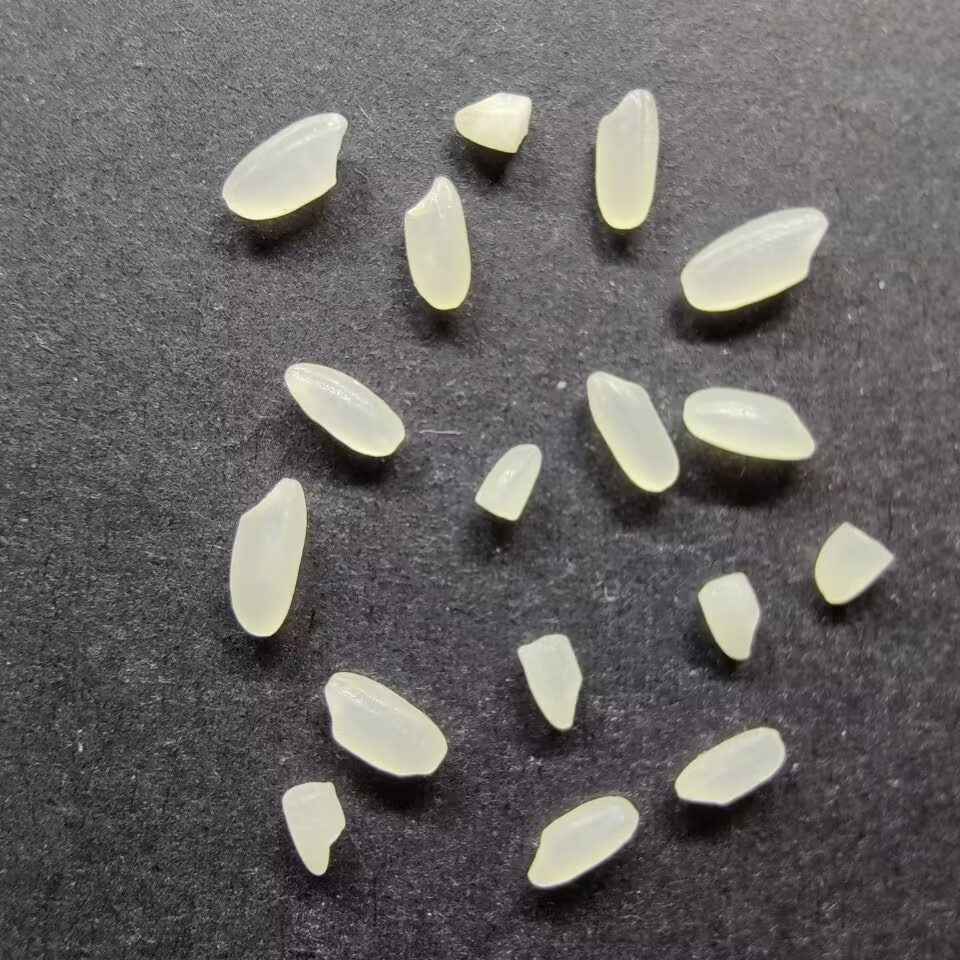broken: (812, 522, 896, 605), (516, 632, 585, 731), (279, 780, 348, 877), (473, 441, 544, 523), (697, 569, 760, 661), (452, 92, 533, 153)
rice: (679, 205, 829, 313), (221, 110, 348, 221), (322, 669, 448, 779), (227, 476, 307, 638), (283, 360, 405, 458), (585, 370, 680, 494), (527, 795, 640, 890), (680, 385, 816, 462), (401, 174, 473, 311), (592, 86, 660, 231), (673, 726, 787, 808)
